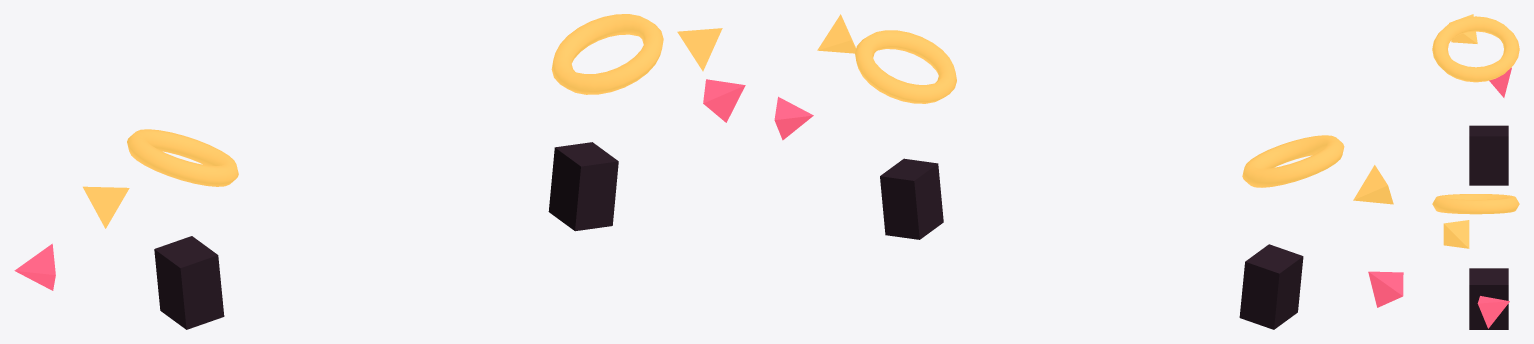
Rendered from avatar-brasa-kit-criador.glb.
3 renders of one model, left to right at view 1: azimuth 30°, elevation 25°; view 2: azimuth 150°, elevation 25°; view 3: azimuth 270°, elevation 25°, orthographic. The views are drawn at different scales.
Parts seen in each view (by area): view 1: kit_brasa_criador_sideModuleL, kit_brasa_criador_sideModuleR, kit_brasa_criador_forgeCuffL, kit_brasa_criador_forgeCuffR, kit_brasa_criador_spark1, kit_brasa_criador_spark2, kit_brasa_criador_spark3, kit_brasa_criador_spark0; view 2: kit_brasa_criador_sideModuleL, kit_brasa_criador_sideModuleR, kit_brasa_criador_forgeCuffL, kit_brasa_criador_forgeCuffR, kit_brasa_criador_spark3, kit_brasa_criador_spark1, kit_brasa_criador_spark2, kit_brasa_criador_spark0; view 3: kit_brasa_criador_forgeCuffR, kit_brasa_criador_sideModuleR, kit_brasa_criador_sideModuleL, kit_brasa_criador_forgeCuffL, kit_brasa_criador_spark0, kit_brasa_criador_spark1, kit_brasa_criador_spark3, kit_brasa_criador_spark2.
Boxes of the visible parts, <box> form: kit_brasa_criador_sideModuleL: <box>548,142,618,231</box>; kit_brasa_criador_sideModuleR: <box>154,236,224,329</box>; kit_brasa_criador_forgeCuffL: <box>551,14,663,94</box>; kit_brasa_criador_forgeCuffR: <box>127,129,238,186</box>; kit_brasa_criador_spark1: <box>703,79,745,122</box>; kit_brasa_criador_spark2: <box>83,186,129,228</box>; kit_brasa_criador_spark3: <box>14,243,55,290</box>; kit_brasa_criador_spark0: <box>677,28,722,71</box>; kit_brasa_criador_sideModuleL: <box>880,158,943,239</box>; kit_brasa_criador_sideModuleR: <box>1239,244,1303,329</box>; kit_brasa_criador_forgeCuffL: <box>855,30,956,103</box>; kit_brasa_criador_forgeCuffR: <box>1242,135,1344,187</box>; kit_brasa_criador_spark3: <box>1368,271,1403,307</box>; kit_brasa_criador_spark1: <box>774,96,813,140</box>; kit_brasa_criador_spark2: <box>1353,165,1393,204</box>; kit_brasa_criador_spark0: <box>817,14,855,53</box>; kit_brasa_criador_forgeCuffR: <box>1432,16,1519,82</box>; kit_brasa_criador_sideModuleR: <box>1469,125,1508,185</box>; kit_brasa_criador_sideModuleL: <box>1469,268,1508,329</box>; kit_brasa_criador_forgeCuffL: <box>1432,194,1519,214</box>; kit_brasa_criador_spark0: <box>1443,220,1469,248</box>; kit_brasa_criador_spark1: <box>1477,296,1509,328</box>; kit_brasa_criador_spark3: <box>1489,67,1511,97</box>; kit_brasa_criador_spark2: <box>1449,14,1477,43</box>.
Size of the model in its own units: 0.934 by 0.243 by 0.134.
